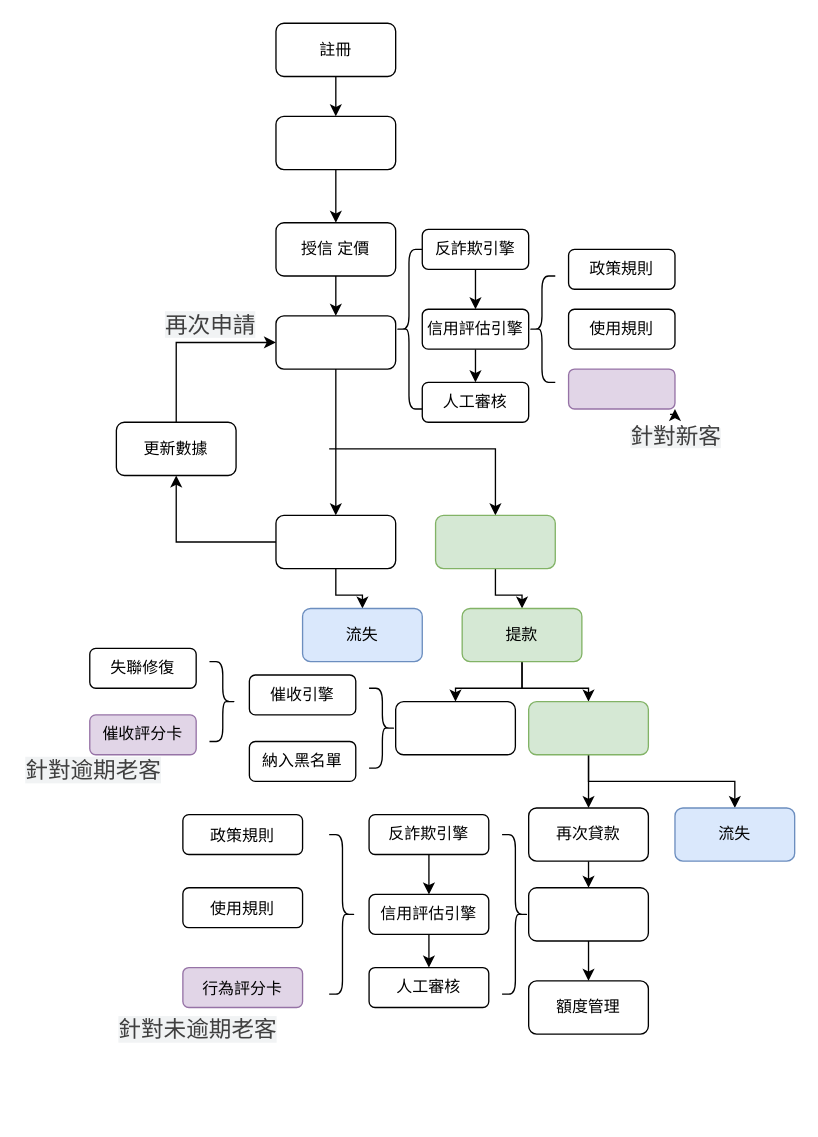
Some shapes in this 818 by 1137 pixel diagram are drawn without their labels. Each missing label, with the box of its shape:
四要素認證: (275, 115, 396, 170)
審批: (275, 315, 396, 369)
復待審批: (527, 886, 648, 941)
未通過: (275, 514, 396, 569)
申請評分卡: (567, 368, 675, 409)
通過: (434, 514, 555, 569)
逾期: (394, 700, 515, 755)
還款: (527, 700, 648, 755)
